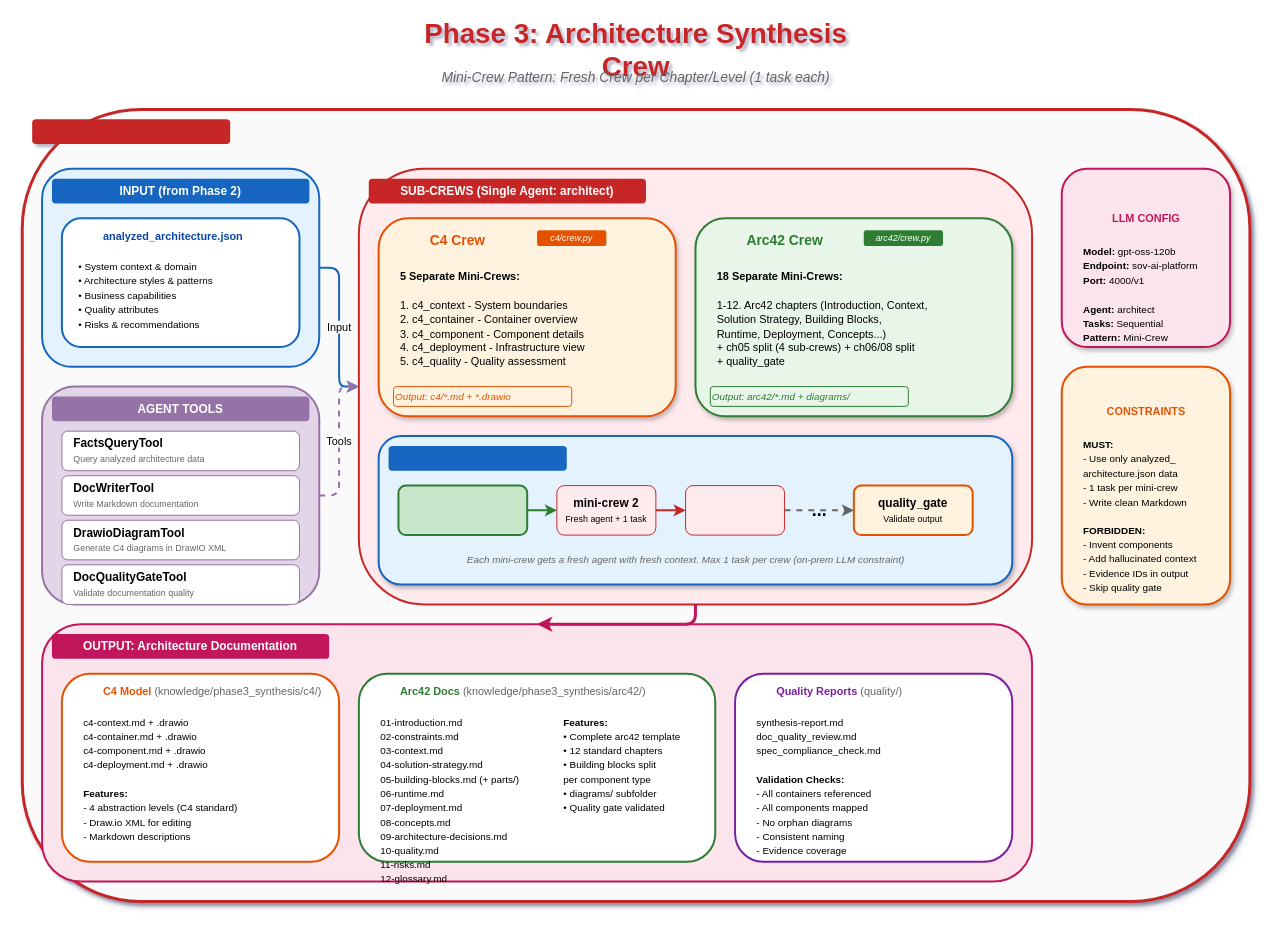
The diagram is 1280 pixels wide and 933 high, and some of its shapes have lost their labels. Each missing label, with the centre of its shape:
crews/architecture_synthesis/: the point at 131,131
mini-crew 1 Fresh agent + 1 task: the point at 462,510
mini-crew N Fresh agent + 1 task: the point at 735,510
MINI-CREW PATTERN: the point at 477,458
